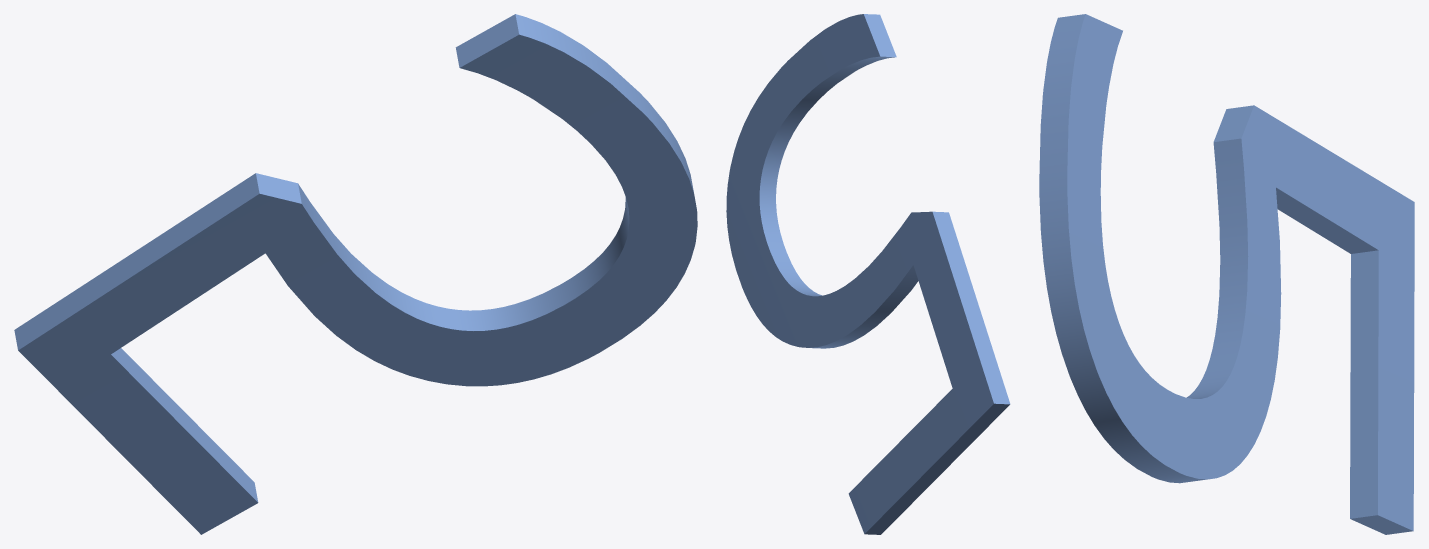
The model's file is New_Number_5.gltf.
3 views of the same model, side by side, from view 1: azimuth 30°, elevation 25°; view 2: azimuth 150°, elevation 25°; view 3: azimuth 270°, elevation 25° (orthographic). The views are drawn at different scales.
Parts seen in each view (by area): view 1: Part 500; view 2: Part 500; view 3: Part 500.
Part boxes in pixels (x1,y1,x2,y2): Part 500: (14,14,697,534); Part 500: (726,14,1010,534); Part 500: (1039,14,1414,534).
Size of the model in its own units: 0.00512 by 0.00537 by 0.00301.
